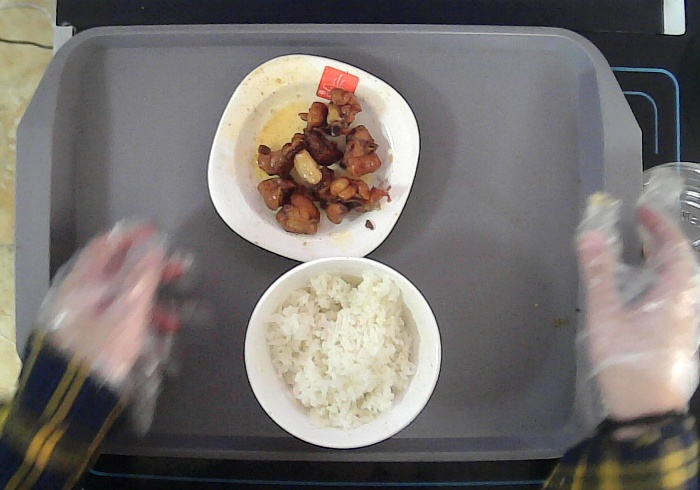SHKJ-Bai_Se_Si_Fang_Cai_Die: (205, 52, 423, 265)
SHKJ-Fan_Wan: (242, 255, 445, 451)
